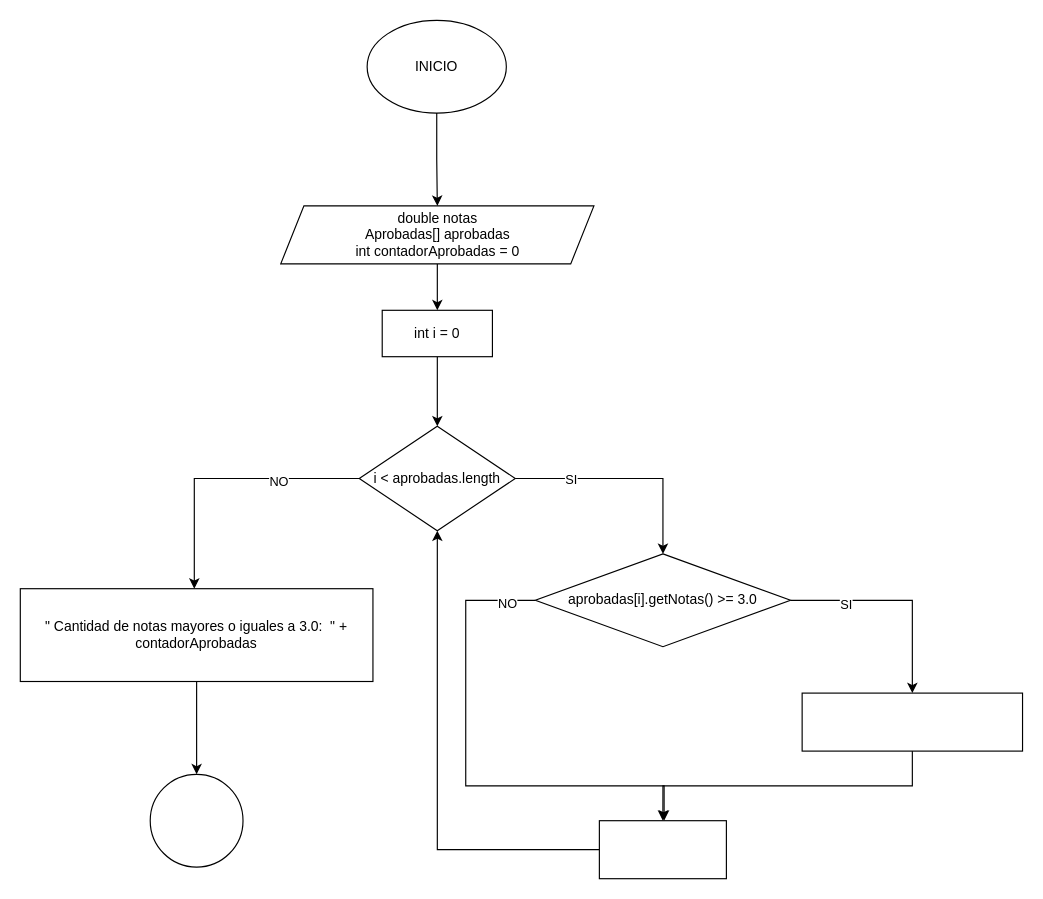
Image size: 1043x899. Some labels were removed from this diagram. The centre of each missing label's shape, as x and y in pixels:
contadorAprobadas = contadorAprobadas +1: point (912, 721)
FIN: point (196, 820)
i = i +1: point (662, 849)
